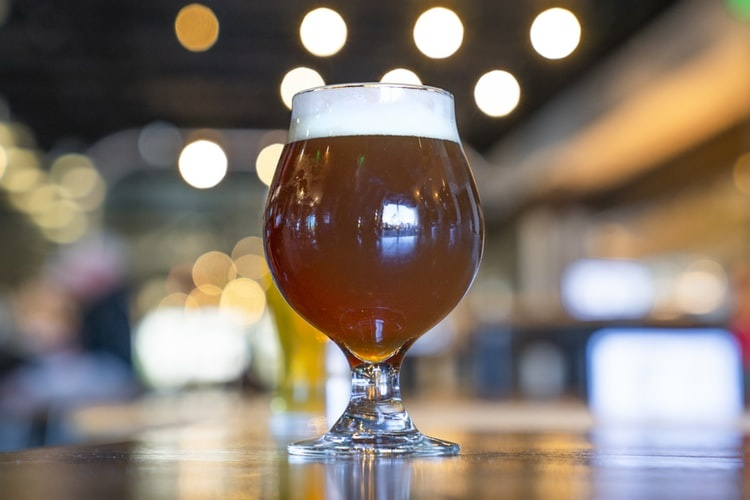whiskey: (268, 82, 480, 443)
